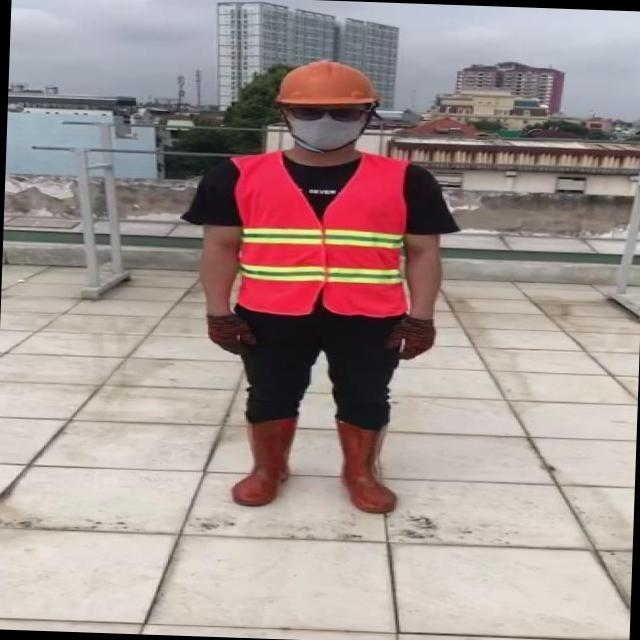hard_hat: (270, 54, 383, 109)
safety_vest: (228, 149, 412, 317)
vehicle: (174, 58, 472, 536)
work_boots: (331, 414, 400, 514), (234, 413, 294, 507)
